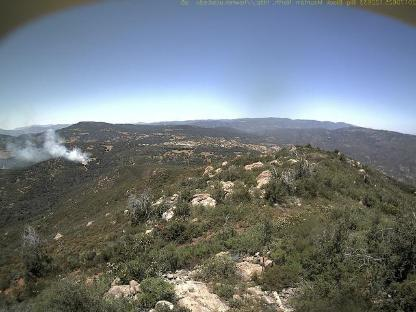smoke: (3, 124, 94, 166)
